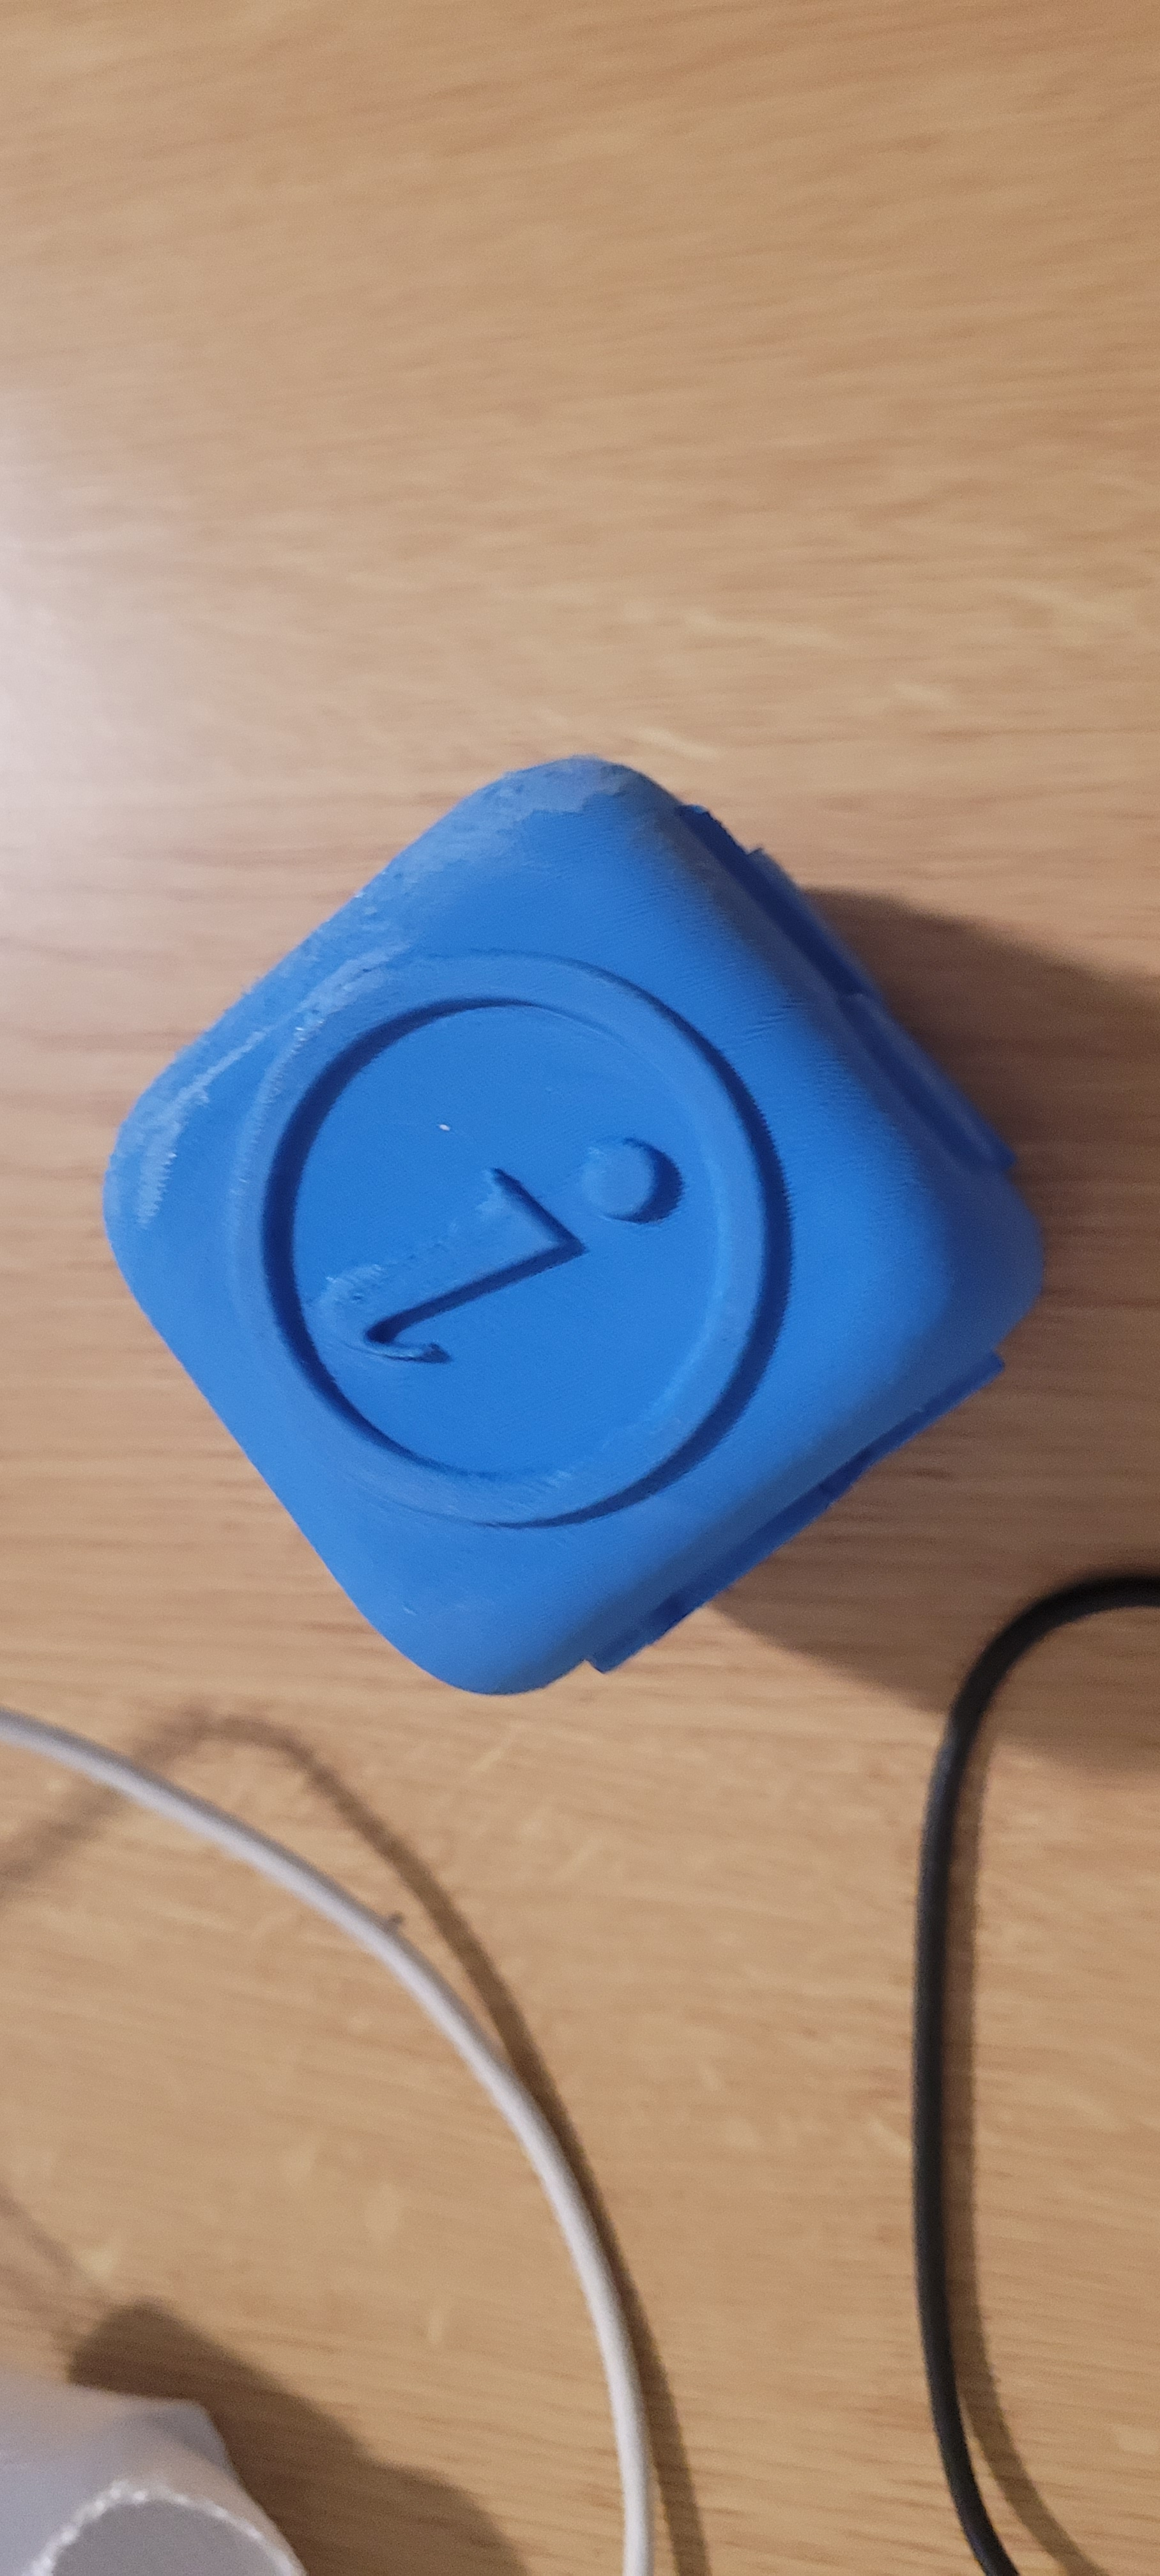Info: (92, 933, 881, 1607)
